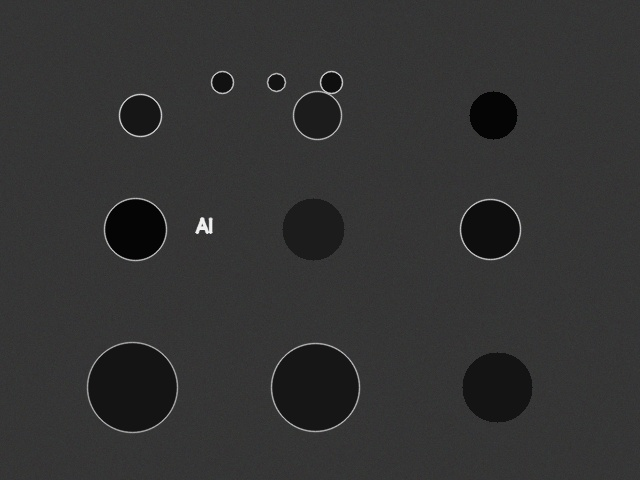hole: (87, 342, 177, 432), (271, 343, 359, 431), (462, 352, 532, 422), (104, 198, 166, 260), (282, 198, 344, 260), (460, 199, 520, 259), (293, 91, 341, 139), (469, 91, 517, 139), (119, 94, 161, 136), (211, 71, 233, 93), (320, 71, 342, 93), (267, 73, 285, 91)
